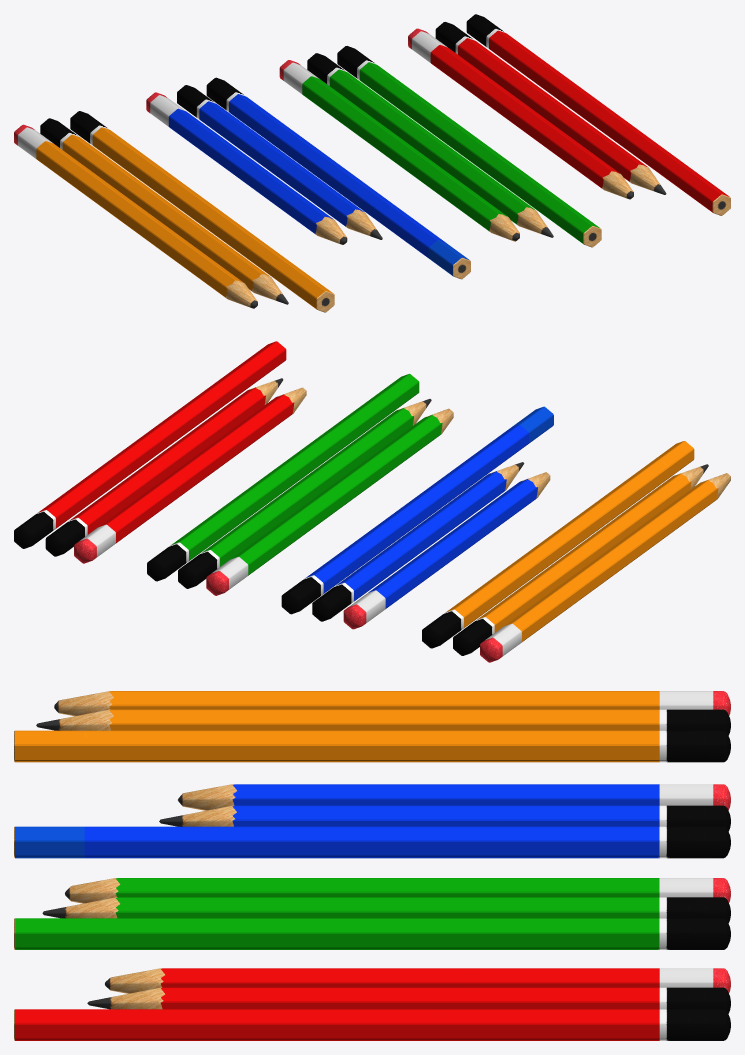
File: Pencils.fbx
The picture shows the model from 3 angles, top to bottom: view 1: azimuth 30°, elevation 25°; view 2: azimuth 150°, elevation 25°; view 3: azimuth 270°, elevation 25°; orthographic projection. The views are drawn at different scales.
Visible parts, largest first — view 1: Pencil3, Pencil6, Pencil12, Pencil9, Pencil1, Pencil7, Pencil8, Pencil10, Pencil2, Pencil11, Pencil5, Pencil4; view 2: Pencil12, Pencil6, Pencil9, Pencil3, Pencil1, Pencil7, Pencil8, Pencil10, Pencil2, Pencil11, Pencil5, Pencil4; view 3: Pencil6, Pencil3, Pencil12, Pencil9, Pencil2, Pencil8, Pencil11, Pencil7, Pencil1, Pencil10, Pencil4, Pencil5.
Boxes of the visible parts, bbox=[...] form: Pencil3: bbox=[70, 111, 334, 312]; Pencil6: bbox=[206, 77, 470, 279]; Pencil12: bbox=[466, 14, 730, 215]; Pencil9: bbox=[337, 46, 601, 247]; Pencil1: bbox=[14, 124, 257, 308]; Pencil7: bbox=[279, 60, 519, 241]; Pencil8: bbox=[307, 53, 553, 237]; Pencil10: bbox=[408, 28, 633, 199]; Pencil2: bbox=[40, 118, 288, 304]; Pencil11: bbox=[435, 22, 666, 194]; Pencil5: bbox=[177, 85, 382, 239]; Pencil4: bbox=[146, 92, 347, 244]; Pencil12: bbox=[14, 341, 286, 548]; Pencil6: bbox=[281, 406, 553, 614]; Pencil9: bbox=[147, 373, 419, 581]; Pencil3: bbox=[422, 441, 694, 648]; Pencil1: bbox=[480, 473, 730, 662]; Pencil7: bbox=[206, 408, 453, 595]; Pencil8: bbox=[178, 399, 431, 588]; Pencil10: bbox=[74, 387, 306, 563]; Pencil2: bbox=[453, 464, 708, 655]; Pencil11: bbox=[45, 378, 283, 556]; Pencil5: bbox=[312, 462, 524, 621]; Pencil4: bbox=[343, 472, 550, 629]; Pencil6: bbox=[14, 826, 730, 858]; Pencil3: bbox=[14, 730, 730, 762]; Pencil12: bbox=[14, 1009, 730, 1040]; Pencil9: bbox=[14, 918, 730, 949]; Pencil2: bbox=[36, 709, 730, 735]; Pencil8: bbox=[42, 897, 730, 923]; Pencil11: bbox=[87, 987, 730, 1013]; Pencil7: bbox=[65, 878, 730, 903]; Pencil1: bbox=[54, 691, 730, 716]; Pencil10: bbox=[105, 968, 730, 993]; Pencil4: bbox=[178, 784, 730, 810]; Pencil5: bbox=[159, 805, 730, 831].
Bounding box in the file's own units: 21.95 × 0.9551 × 20.1.
